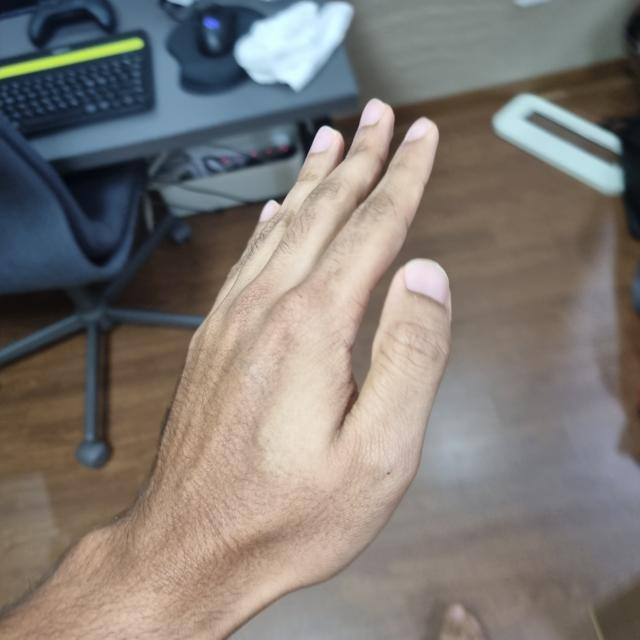Paper: (143, 109, 448, 592)
